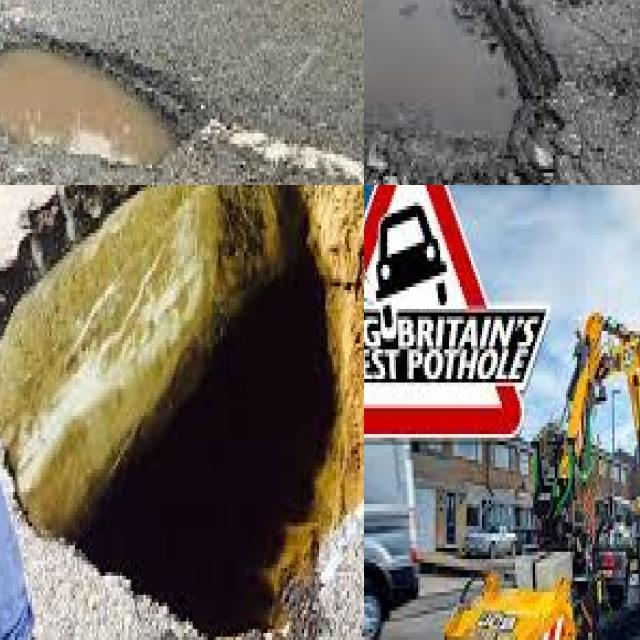Pothole: (0, 185, 364, 640), (0, 42, 208, 168), (364, 0, 520, 148)
